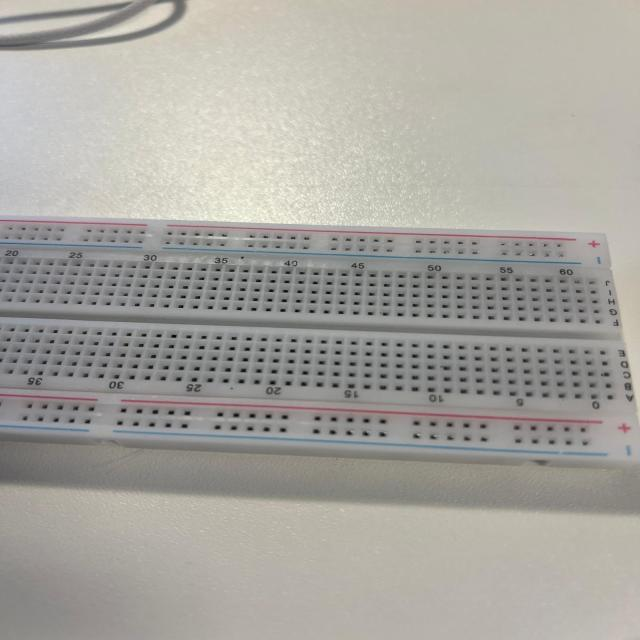BreadBoard: (29, 209, 632, 486)
